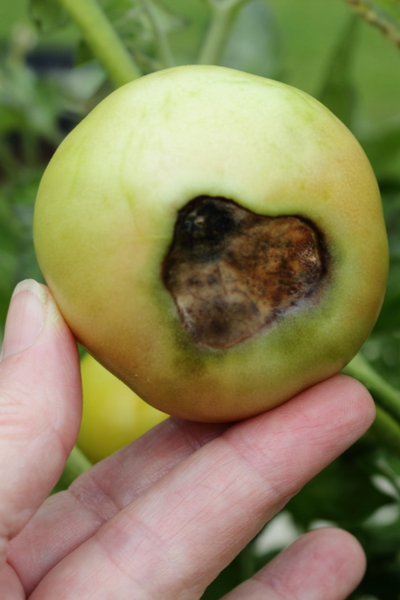blossom_rotw: (136, 167, 365, 374)
